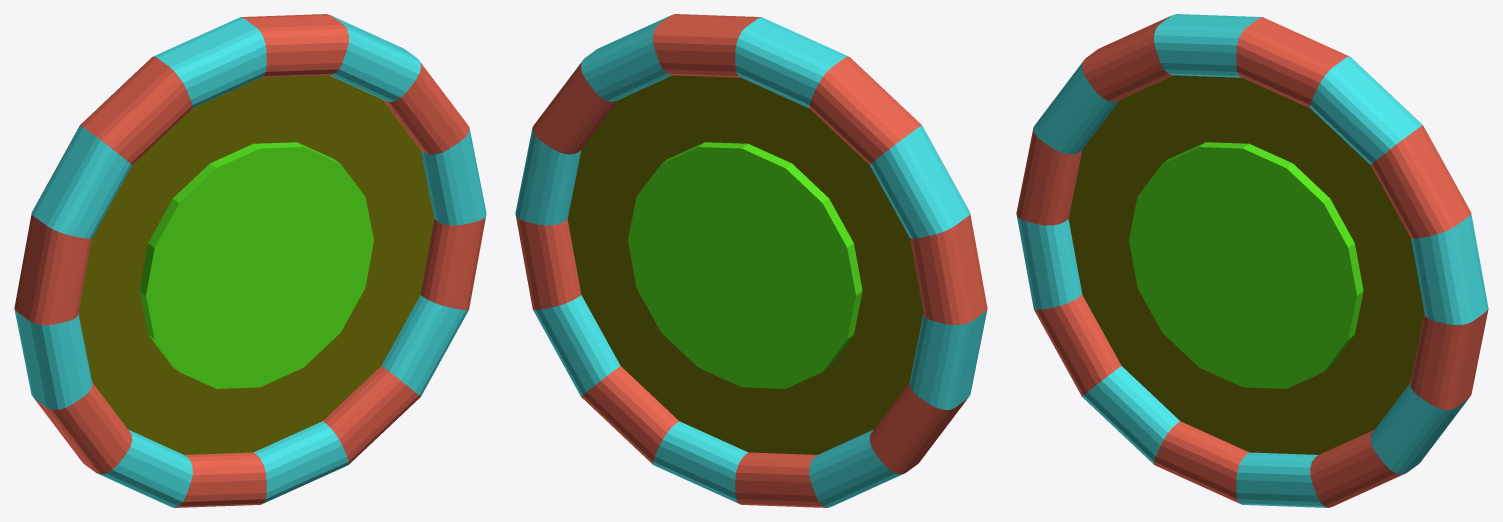
File: coinDrop.glb
The picture shows the model from 3 angles, left to right: view 1: azimuth 30°, elevation 25°; view 2: azimuth 150°, elevation 25°; view 3: azimuth 330°, elevation 25°; orthographic projection.
Visible parts, largest first — view 1: Cylinder; view 2: Cylinder; view 3: Cylinder.
Boxes of the visible parts, x1=… form: Cylinder: x1=14, y1=14, x2=486, y2=507; Cylinder: x1=515, y1=14, x2=987, y2=507; Cylinder: x1=1016, y1=14, x2=1488, y2=507.
Bounding box in the file's own units: 2 × 2 × 0.2457.
